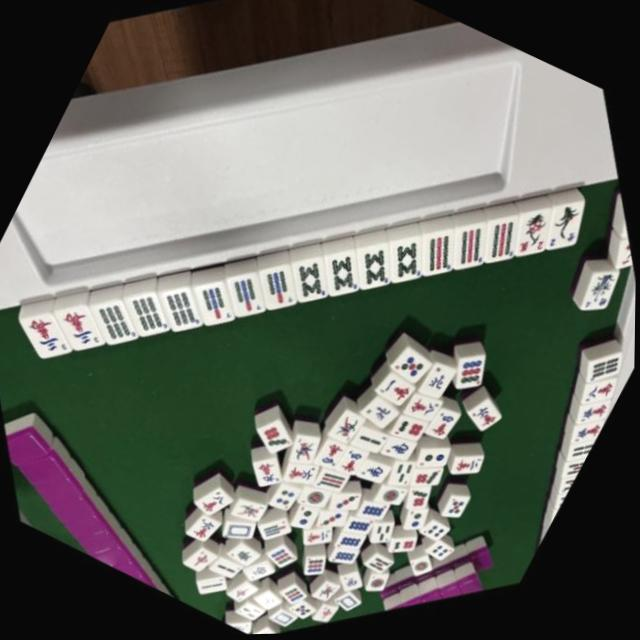bf2: (530, 194, 600, 264)
bs2: (499, 203, 565, 269)
sb6: (84, 291, 155, 362), (117, 283, 187, 353), (150, 276, 219, 347)
sb7: (183, 271, 250, 339), (214, 265, 280, 333), (248, 259, 310, 322)
sb8: (373, 229, 440, 297), (278, 249, 344, 317), (310, 243, 376, 310), (341, 235, 406, 301)
sb9: (405, 220, 472, 289), (468, 209, 534, 277), (437, 214, 503, 282)
sc3: (47, 293, 121, 368), (12, 299, 85, 375)
